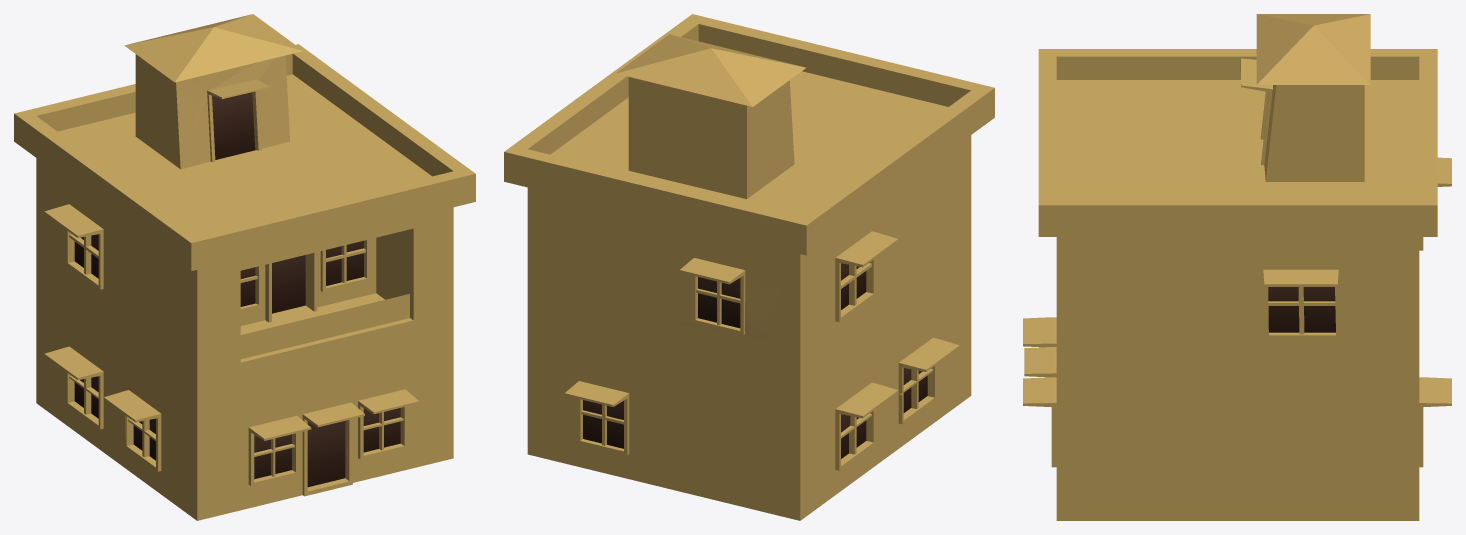
The model's file is Canyon_House.FBX.
3 renders of one model, left to right at view 1: azimuth 30°, elevation 25°; view 2: azimuth 150°, elevation 25°; view 3: azimuth 270°, elevation 25°, orthographic. The views are drawn at different scales.
Visible parts, largest first — view 1: Canyon_House; view 2: Canyon_House; view 3: Canyon_House.
Boxes of the visible parts, x1,y1,x2,y2 form: Canyon_House: (14,14,475,520); Canyon_House: (504,14,994,520); Canyon_House: (1023,14,1451,520).
Size of the model in its own units: 501 by 590 by 537.
1 material, 1 textured.
